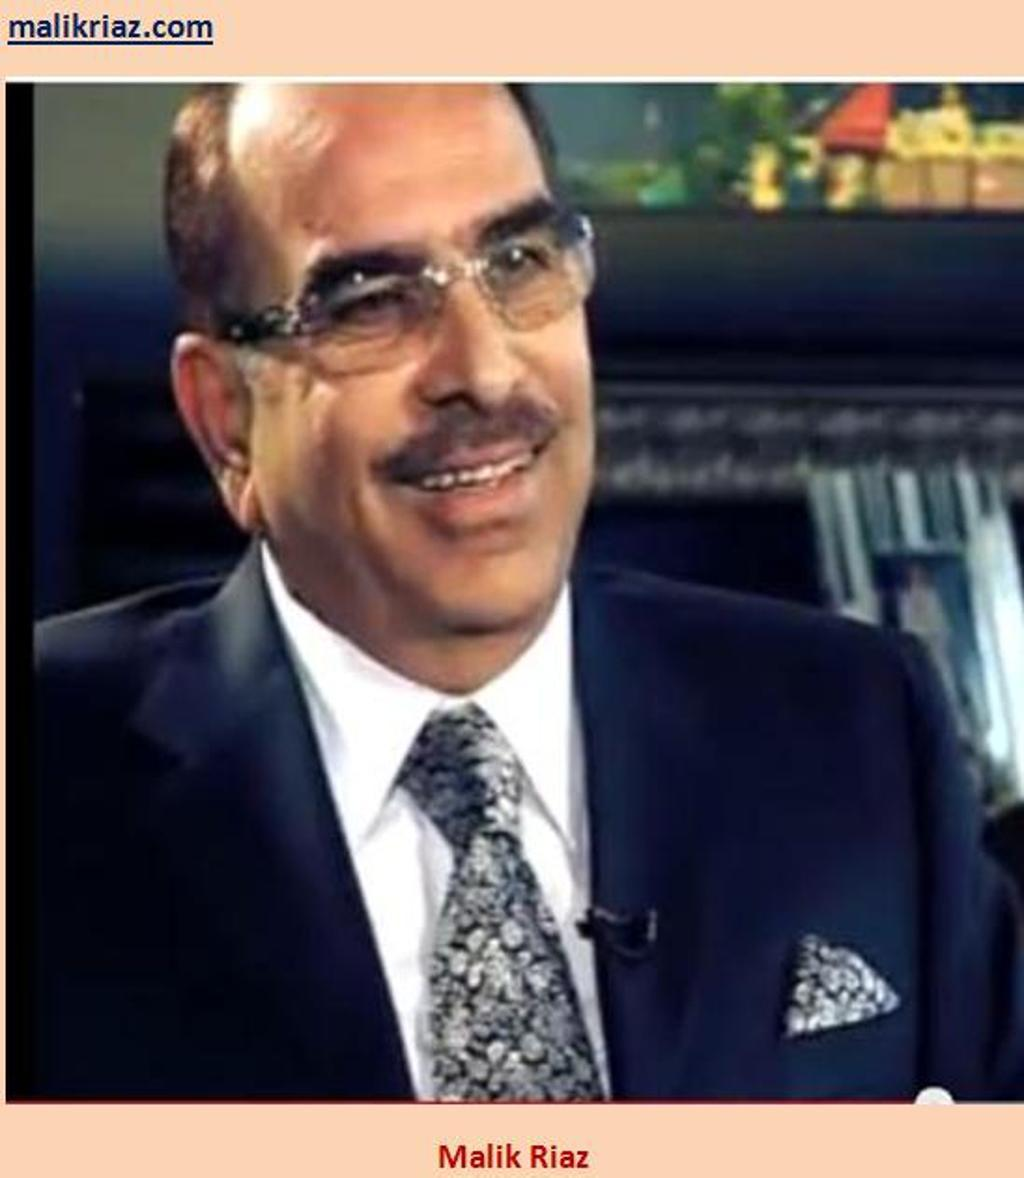face: (250, 95, 593, 631)
